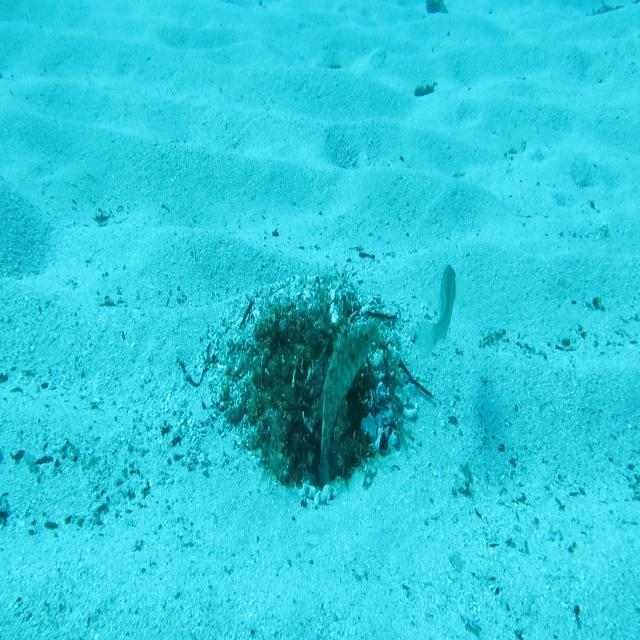MAF: (312, 314, 381, 492)
core_nest: (280, 324, 324, 359)
female: (415, 263, 468, 368)
nest: (204, 263, 424, 521)
vegetation: (412, 78, 439, 98)
